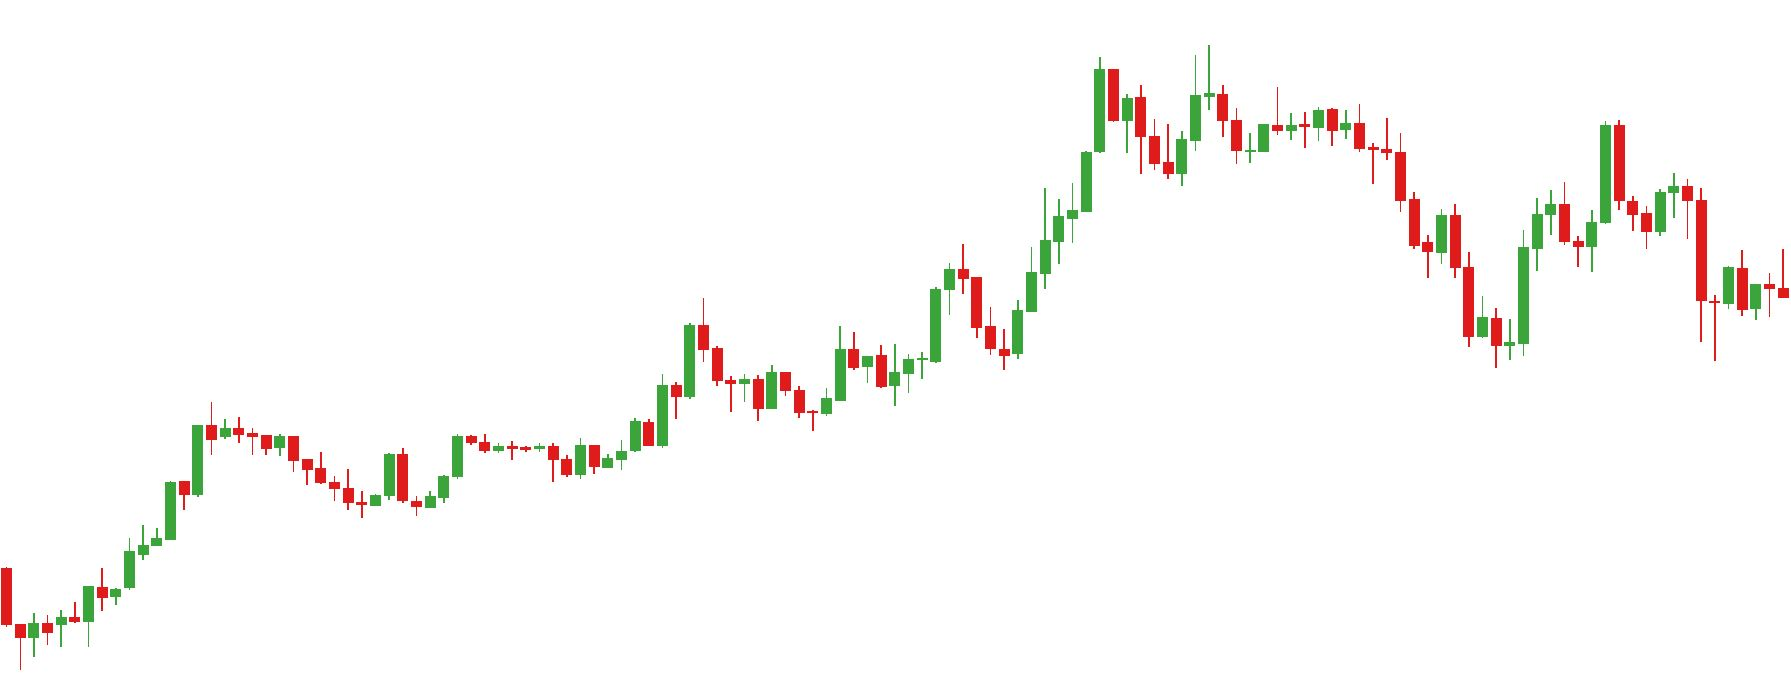sell: (1091, 47, 1216, 147), (1544, 123, 1629, 250)
